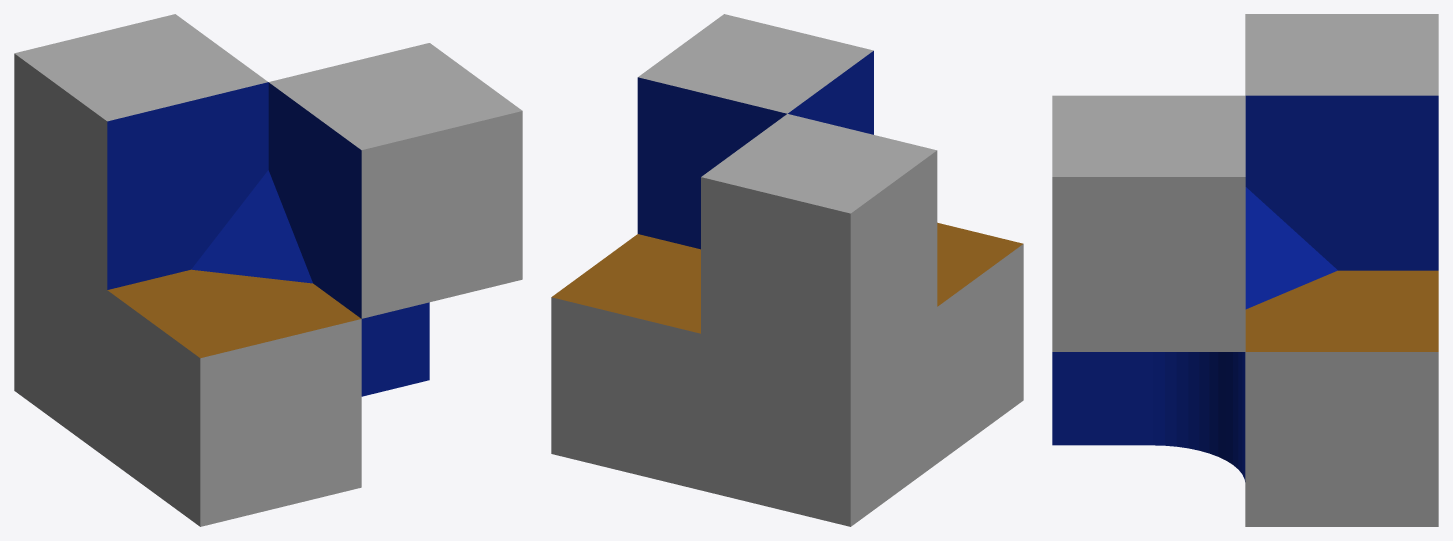
Rendered from case_91.fbx.
The picture shows the model from 3 angles, left to right: view 1: azimuth 30°, elevation 25°; view 2: azimuth 150°, elevation 25°; view 3: azimuth 270°, elevation 25°; orthographic projection. The views are drawn at different scales.
Visible parts, largest first — view 1: case_91; view 2: case_91; view 3: case_91.
Part boxes in pixels (<box>): case_91: <box>14,14,522,526</box>; case_91: <box>551,14,1023,526</box>; case_91: <box>1052,14,1438,526</box>.
Bounding box in the file's own units: 1 × 1 × 1.
